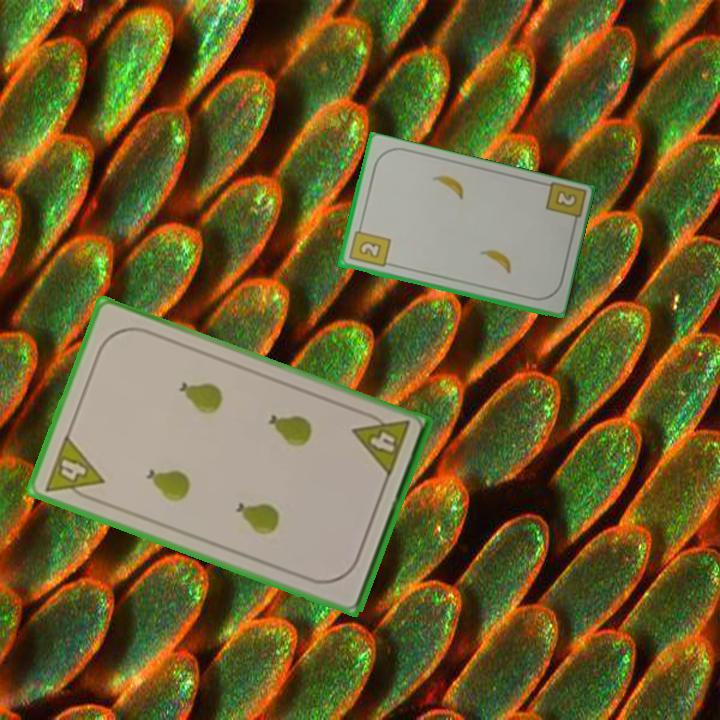2b: (345, 222, 393, 270), (541, 180, 586, 231)
4p: (40, 431, 107, 506), (349, 407, 412, 480)
